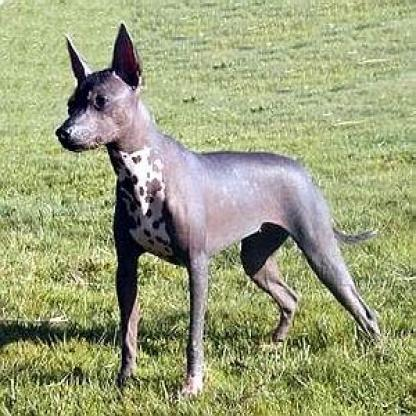Mexican_hairless: (51, 18, 387, 402)
